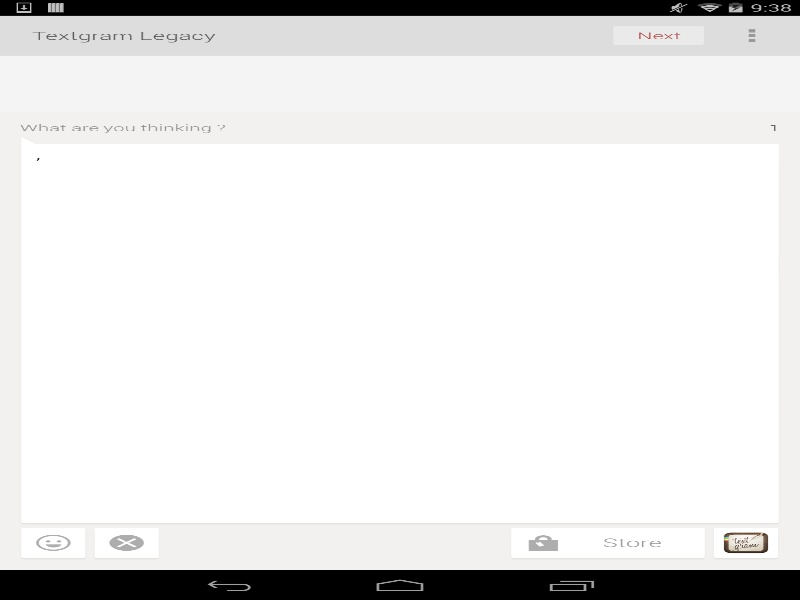Button: (509, 527, 706, 560), (93, 527, 160, 560), (712, 527, 779, 560), (20, 527, 86, 560), (612, 25, 705, 45)
Input: (20, 137, 780, 525)
